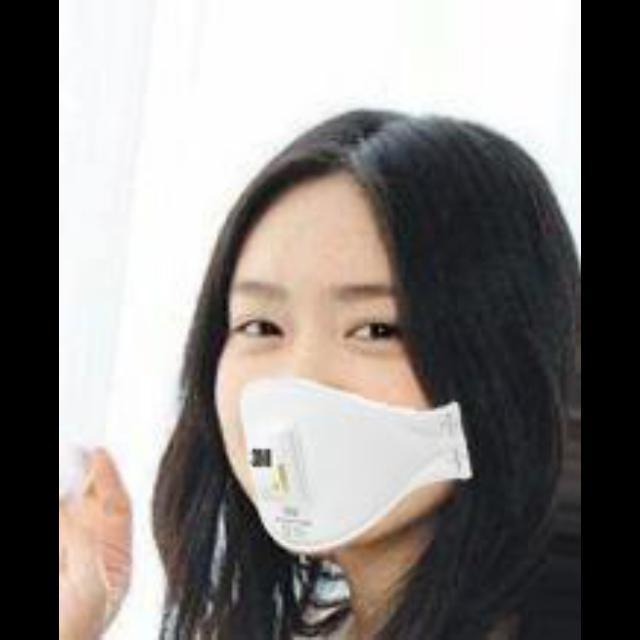suspicion: (169, 86, 553, 548)
